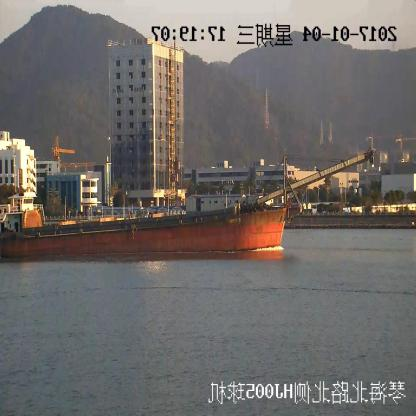Bulk Carrier: (0, 150, 374, 256)
